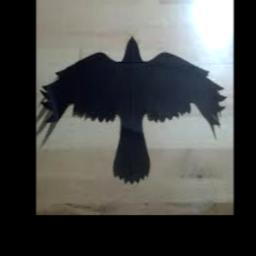Crow: (41, 36, 226, 184)
